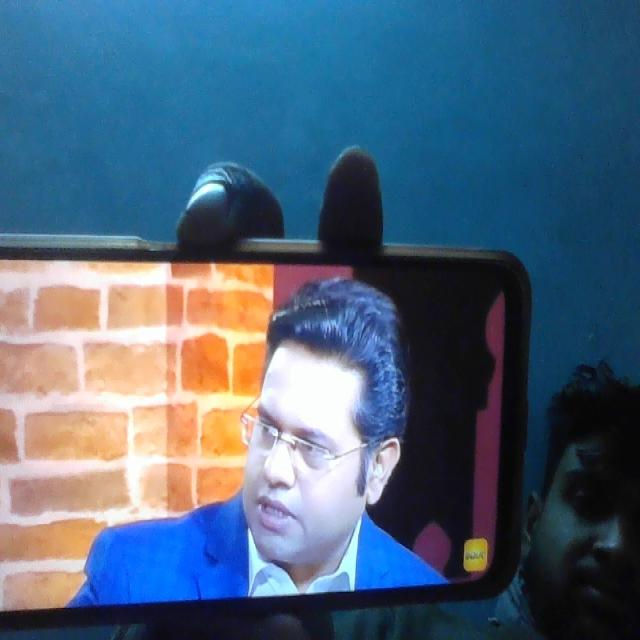fake: (241, 292, 391, 575)
